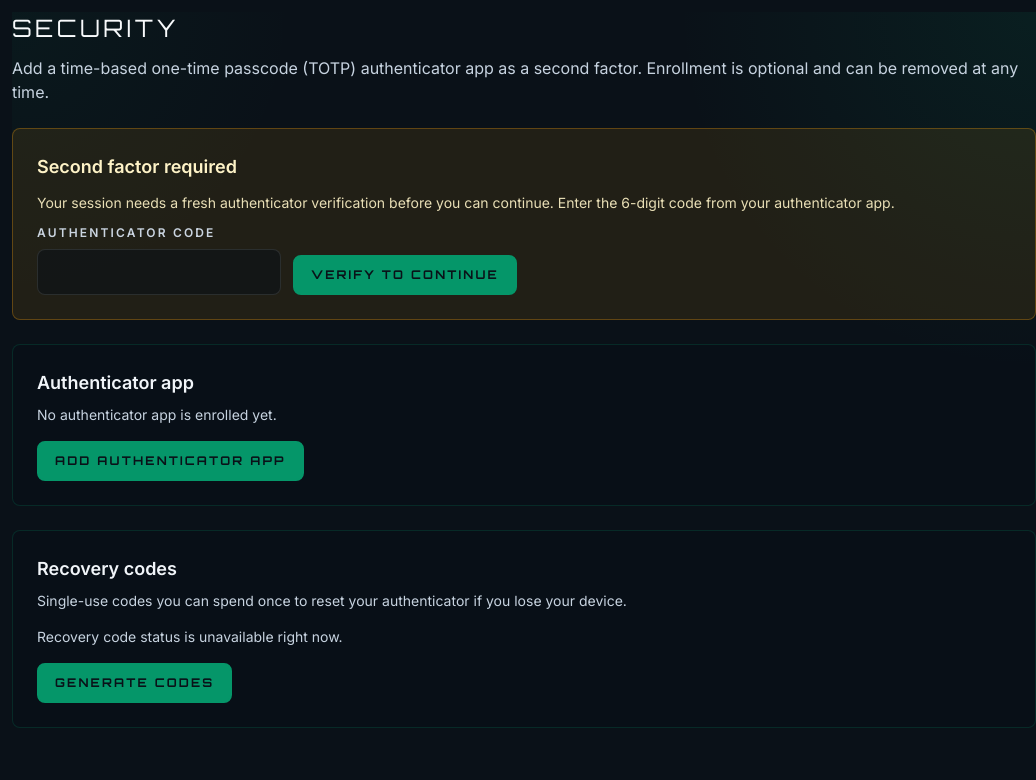
Test: MfaSettingsClient › explains when no verified factor exists for the required step-up
Type "123456" into the field labelled "Authenticator code". click: (159, 272)
box: x1=37 y1=249 x2=281 y2=295
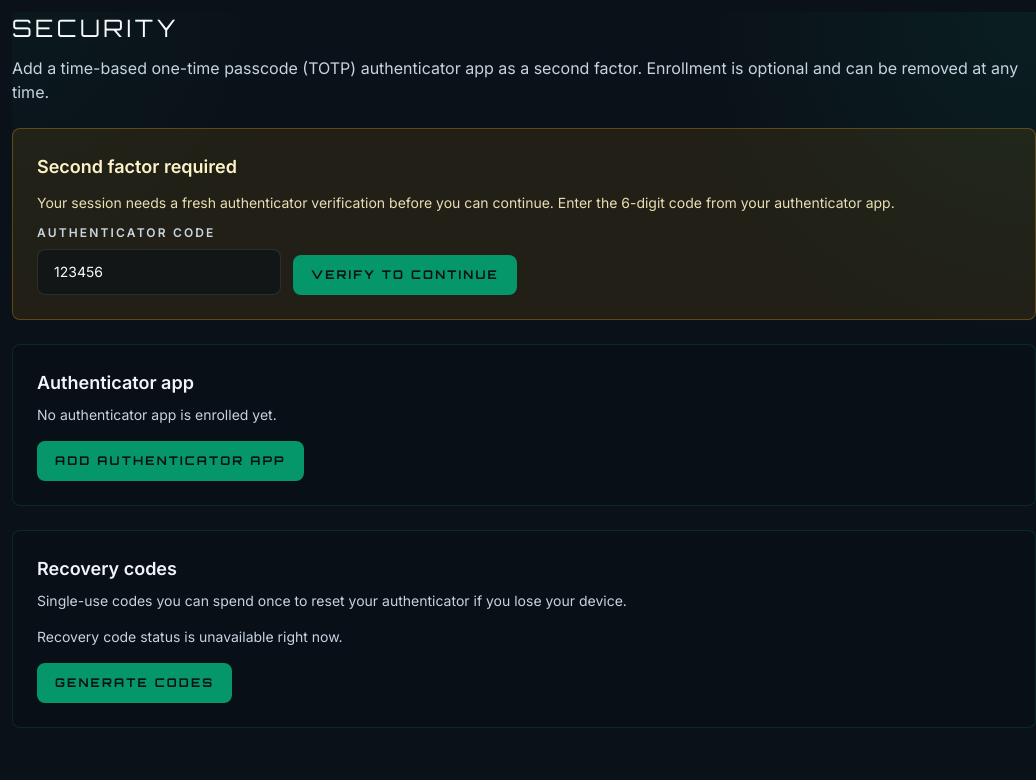
Click the button "Verify to continue". click: click(405, 275)
box: x1=293 y1=255 x2=517 y2=295
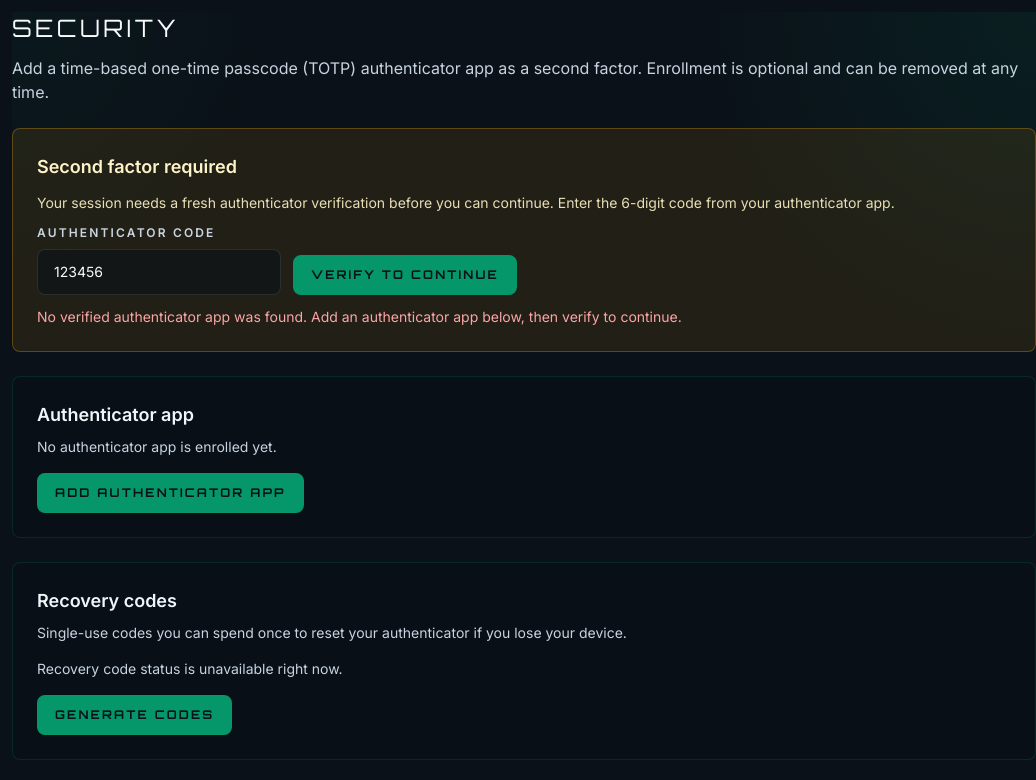
Check: the text "No verified authenticator app was found" is shown, box x1=37 y1=308 x2=682 y2=325
